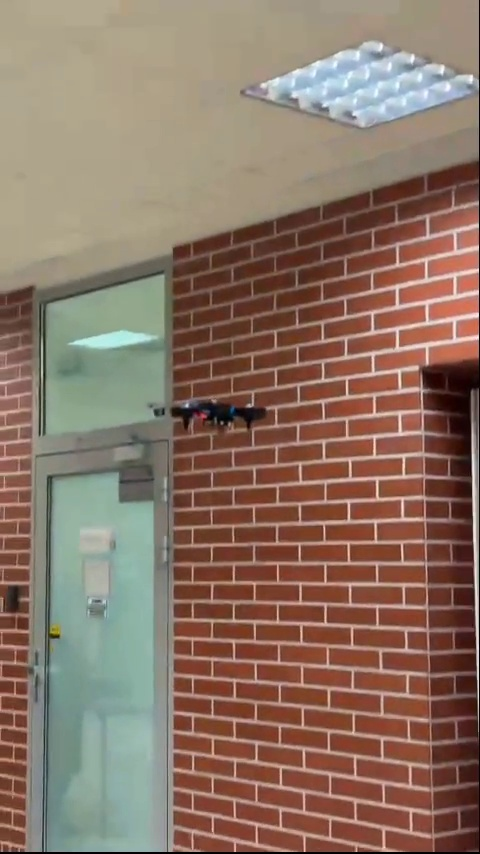drone: (173, 397, 265, 435)
